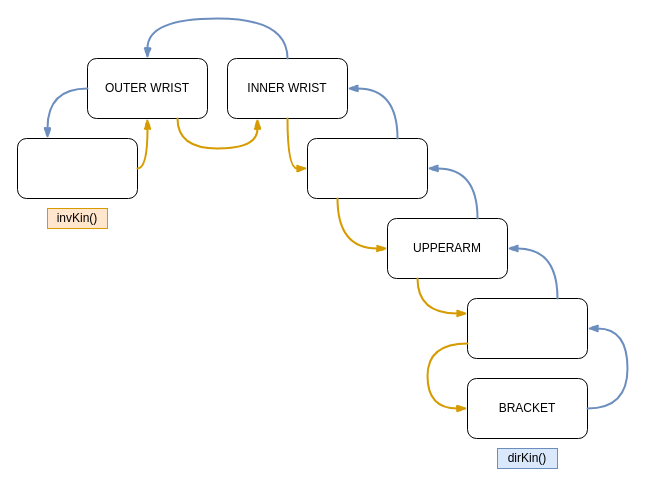
Some shapes in this 646 by 486 pixel diagram are drawn without their labels. The shapes that lost their labels are listed below. From the top down, each one's centre as x and y in pixels, then its label:
At point (77, 168): "GRIPPER".
At point (367, 168): "FOREARM".
At point (527, 328): "TORSO".
